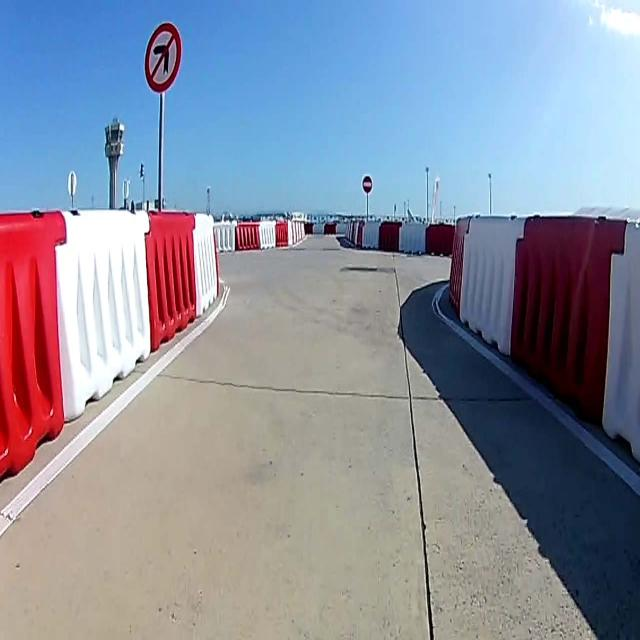girisyok: (362, 175, 372, 192)
soladonulmez: (144, 22, 182, 94)
